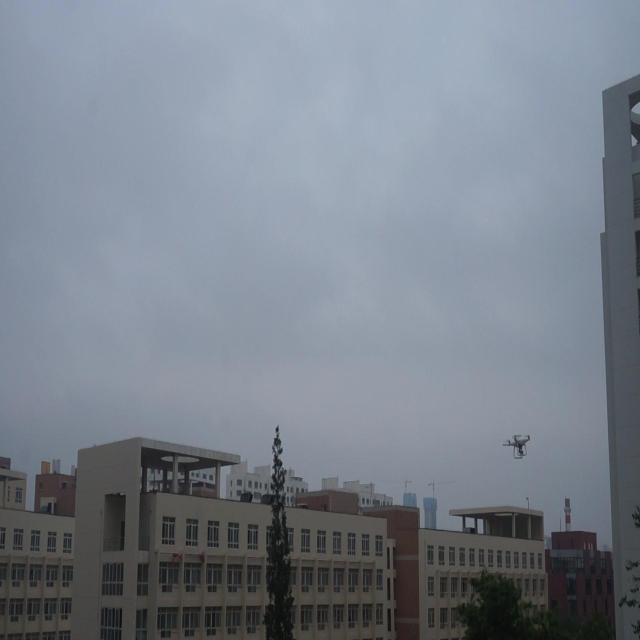drone: (502, 430, 532, 462)
